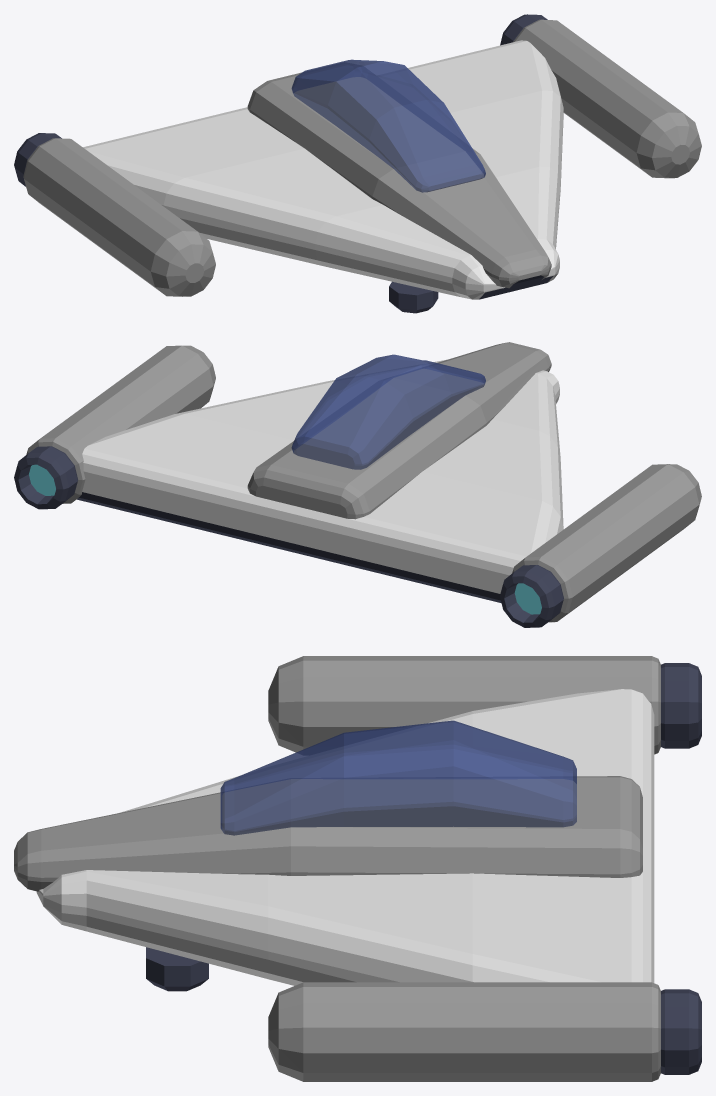
Rendered from hull_manta.obj.
3 views of the same model, one above another, from view 1: azimuth 30°, elevation 25°; view 2: azimuth 150°, elevation 25°; view 3: azimuth 270°, elevation 25° (orthographic). The views are drawn at different scales.
Size of the model in its own units: 3.84 by 1.03 by 3.03.
